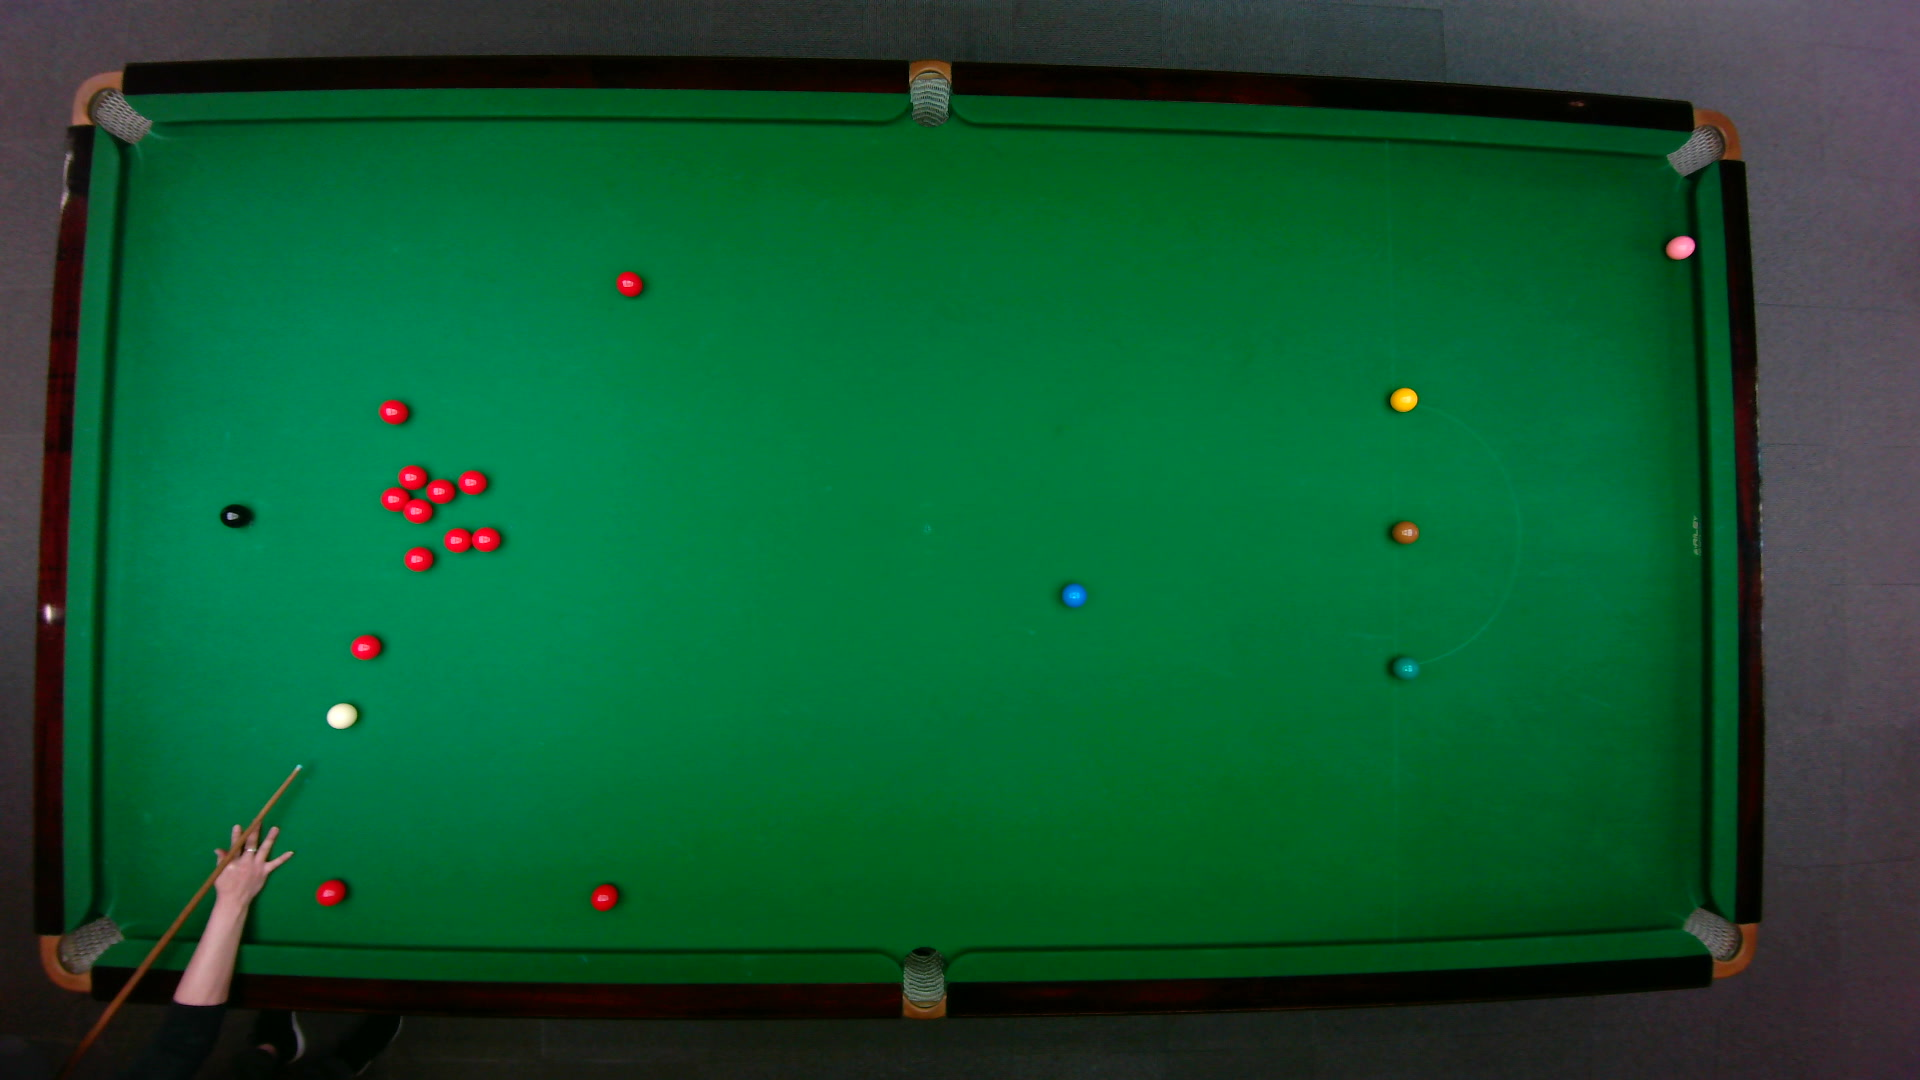bag: (38, 913, 125, 992), (69, 69, 152, 145), (1679, 905, 1756, 978), (1663, 107, 1741, 177), (901, 944, 944, 1021), (909, 55, 949, 128)
black: (218, 502, 251, 527)
blue: (1059, 580, 1087, 608)
brown: (1390, 520, 1419, 545)
cue: (57, 761, 309, 1072)
green: (1389, 653, 1419, 680)
pink: (1663, 232, 1697, 260)
red: (313, 877, 345, 907), (396, 462, 429, 491), (348, 632, 382, 659), (400, 496, 434, 524), (442, 525, 473, 554), (401, 545, 434, 572), (469, 525, 501, 553), (378, 484, 410, 512), (589, 882, 618, 911), (456, 468, 488, 495), (377, 398, 409, 425), (423, 477, 456, 502), (615, 269, 644, 297)
white: (323, 700, 359, 729)
yellow: (1387, 385, 1418, 411)
zone: (1389, 402, 1520, 666)
